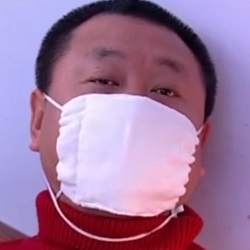mask: (44, 92, 198, 216)
